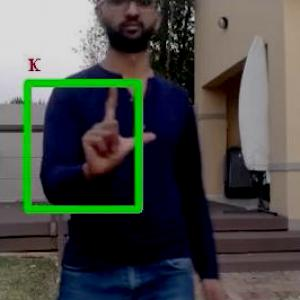land_hand: (72, 72, 160, 177)
